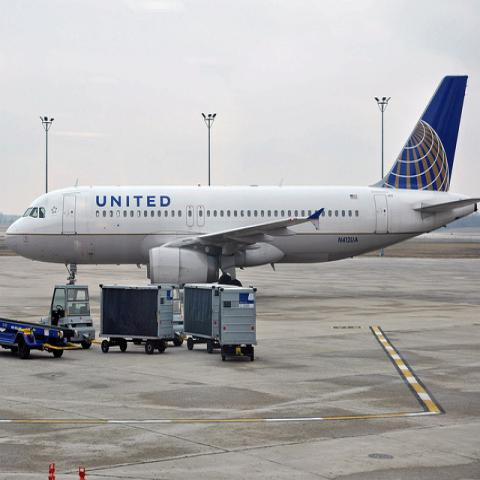truck: (98, 285, 173, 355), (39, 284, 95, 349), (148, 282, 184, 347)
